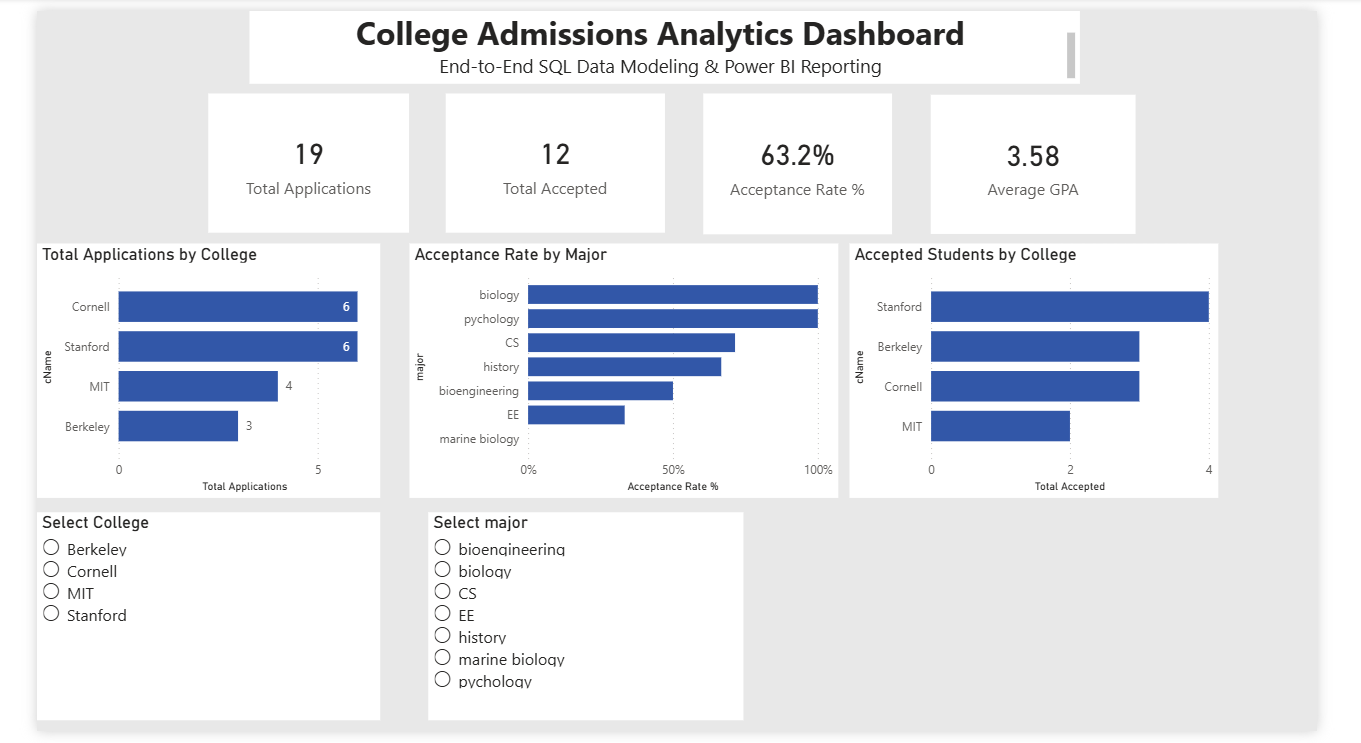

The page's visual inventory and layout, read from the dashboard file:
{"tool":"powerbi","page":{"name":"Page 1","canvas":[1280,720],"ordinal":0},"visuals":[{"type":"card","fields":{"Values":["fact_apply.Total Applications"]},"box":[171.7,82.4,201,139.6],"z":0},{"type":"card","fields":{"Values":["fact_apply.Total Accepted"]},"box":[409,82.4,219.1,139.6],"z":1000},{"type":"card","fields":{"Values":["fact_apply.Acceptance Rate %"]},"box":[665.8,82.4,188.4,141],"z":2000},{"type":"card","fields":{"Values":["dim_student.Average GPA"]},"box":[893.3,83.8,205.2,139.6],"z":3000},{"type":"clusteredBarChart","title":"Total Applications by College","fields":{"Category":["dim_college.cName"],"Y":["fact_apply.Total Applications"]},"box":[0,233.1,343.4,254],"z":4000},{"type":"clusteredBarChart","title":"Acceptance Rate by Major","fields":{"Category":["fact_apply.major"],"Y":["fact_apply.Acceptance Rate %"]},"box":[372.7,233.1,428.5,254],"z":5000},{"type":"listSlicer","title":"Select College","fields":{"Values":["dim_college.cName"]},"box":[0,501.1,343.4,208],"z":6000},{"type":"listSlicer","title":"Select major","fields":{"Values":["fact_apply.major"]},"box":[390.8,501.1,315.5,208],"z":7000},{"type":"textbox","box":[212.2,0,830.5,72.6],"z":7002},{"type":"clusteredBarChart","title":"Accepted Students by College","fields":{"Category":["dim_college.cName"],"Y":["fact_apply.Total Accepted"]},"box":[812.4,233.1,368.5,254],"z":7004}]}

Visuals, with their boxes on the page's 1280x720 design canvas (x1, y1, x2, y2). These are canvas units, not pixel positions in the 1361x743 screenshot, which may show the page scaled, cropped or inside an application window:
card - fact_apply.Total Applications: BBox(172, 82, 373, 222)
card - fact_apply.Total Accepted: BBox(409, 82, 628, 222)
card - fact_apply.Acceptance Rate %: BBox(666, 82, 854, 223)
card - dim_student.Average GPA: BBox(893, 84, 1098, 223)
"Total Applications by College" clusteredBarChart: BBox(0, 233, 343, 487)
"Acceptance Rate by Major" clusteredBarChart: BBox(373, 233, 801, 487)
"Select College" listSlicer: BBox(0, 501, 343, 709)
"Select major" listSlicer: BBox(391, 501, 706, 709)
textbox: BBox(212, 0, 1043, 73)
"Accepted Students by College" clusteredBarChart: BBox(812, 233, 1181, 487)
